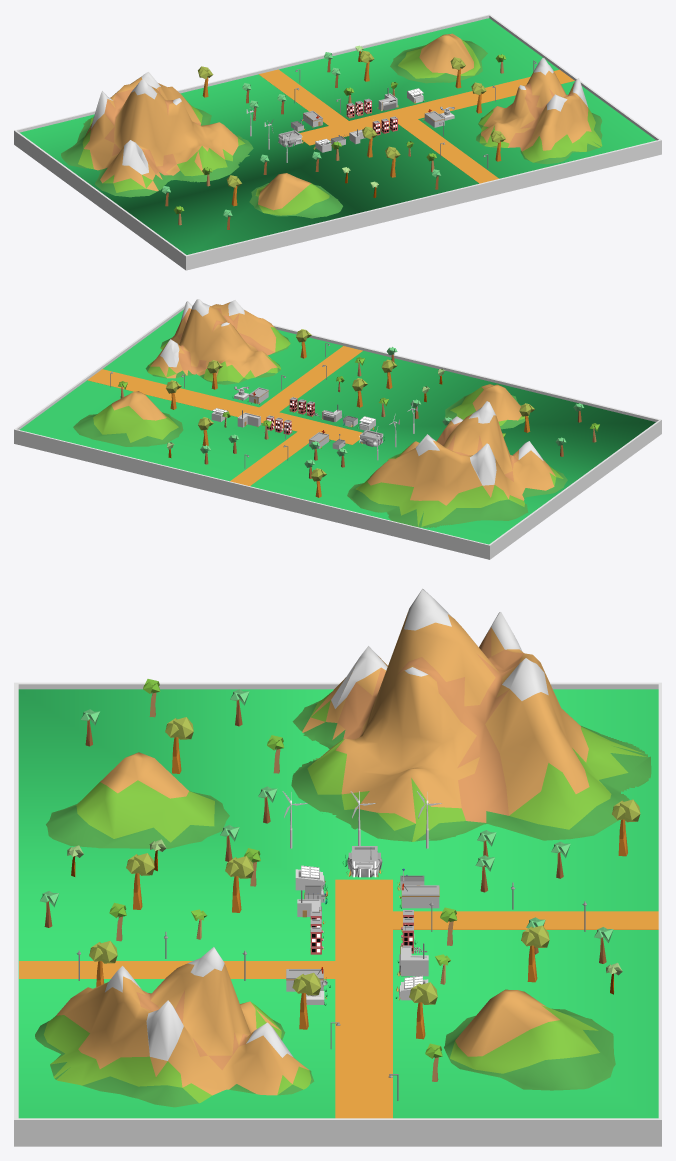
The model's file is example.glb.
3 renders of one model, top to bottom at view 1: azimuth 30°, elevation 25°; view 2: azimuth 150°, elevation 25°; view 3: azimuth 270°, elevation 25°, orthographic. The views are drawn at different scales.
Parts seen in each view (by area): view 1: Основа, Декор.003, Дорога, Декор.004, Декор.001, Декор.002, Декор; view 2: Основа, Декор.003, Дорога, Декор.004, Декор.001, Декор.002, Декор; view 3: Основа, Декор.003, Дорога, Декор.004, Декор.001, Декор.002, Декор, Подстанция, Больница 2, Завод.
Part boxes in pixels (box(x1,y1,x2,y2)): Основа: box(14, 14, 661, 270); Декор.003: box(61, 33, 602, 218); Дорога: box(259, 69, 574, 183); Декор.004: box(162, 126, 440, 229); Декор.001: box(324, 45, 506, 103); Декор.002: box(198, 66, 286, 120); Декор: box(471, 82, 505, 161); Основа: box(14, 304, 661, 559); Декор.003: box(73, 299, 567, 527); Дорога: box(87, 346, 362, 485); Декор.004: box(336, 347, 599, 456); Декор.001: box(118, 380, 272, 464); Декор.002: box(304, 441, 347, 497); Декор: box(207, 329, 311, 389); Основа: box(14, 682, 661, 1146); Декор.003: box(35, 588, 651, 1107); Дорога: box(19, 879, 658, 1118); Декор.004: box(40, 679, 284, 941); Декор.001: box(409, 907, 622, 1081); Декор.002: box(475, 799, 640, 892); Декор: box(89, 940, 320, 1029); Подстанция: box(347, 846, 382, 877); Больница 2: box(401, 883, 439, 908); Завод: box(399, 943, 428, 976).
Size of the model in its own units: 380 by 73.24 by 238.
